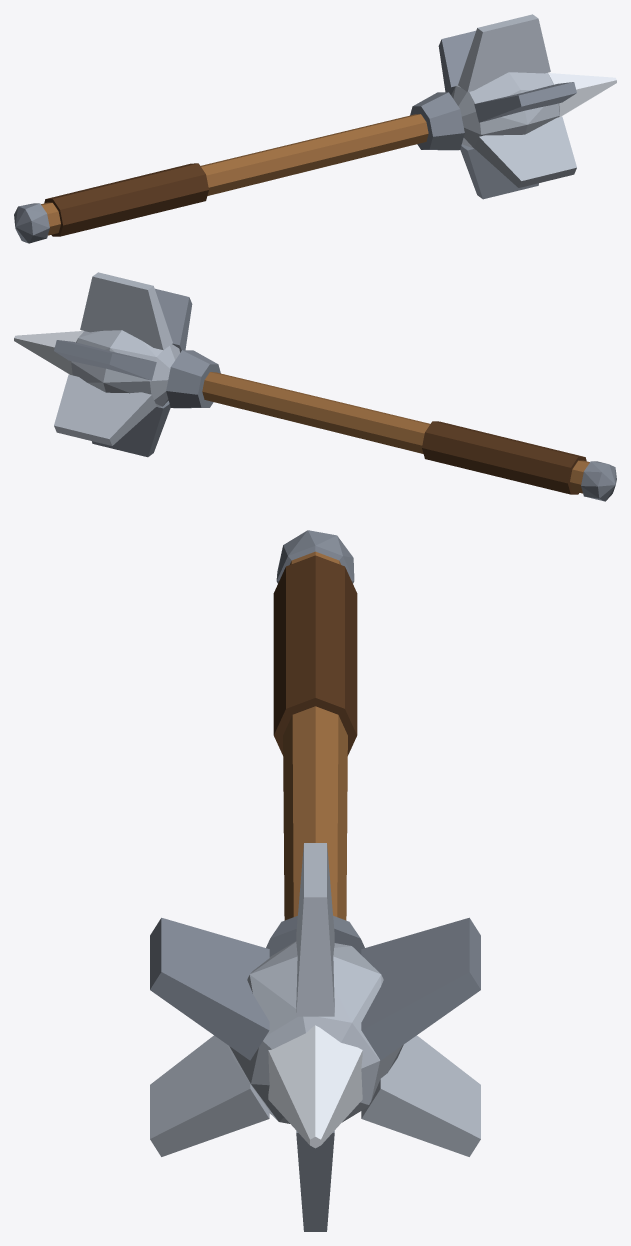
The model's file is drop_steel_mace.glb.
The picture shows the model from 3 angles, top to bottom: view 1: azimuth 30°, elevation 25°; view 2: azimuth 150°, elevation 25°; view 3: azimuth 270°, elevation 25°; orthographic projection. The views are drawn at different scales.
Visible parts, largest first — view 1: drop_steel_mace; view 2: drop_steel_mace; view 3: drop_steel_mace.
Part boxes in pixels (x1,y1,x2,y2): drop_steel_mace: (14,14,616,243); drop_steel_mace: (14,272,616,501); drop_steel_mace: (150,530,480,1231).
Bounding box in the file's own units: 0.6912 × 0.184 × 0.1651.
